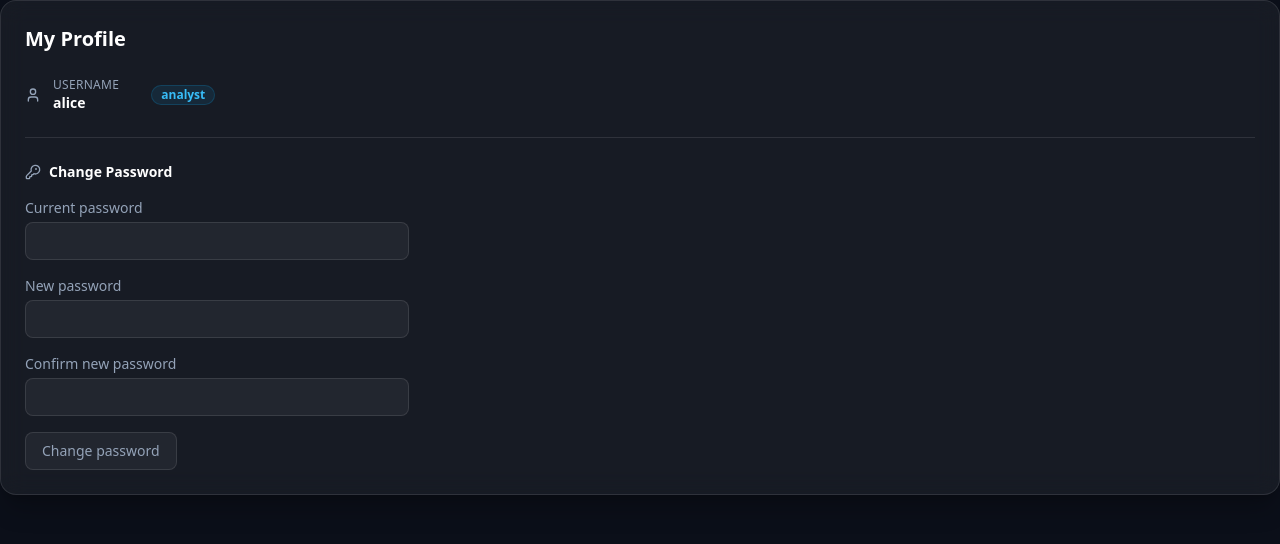
Test: ProfileCard — client-side validation › shows mismatch error when confirm does not match new password
Type "current123" into the password field labelled "Current password". click: (217,241)
box: [25, 222, 409, 260]
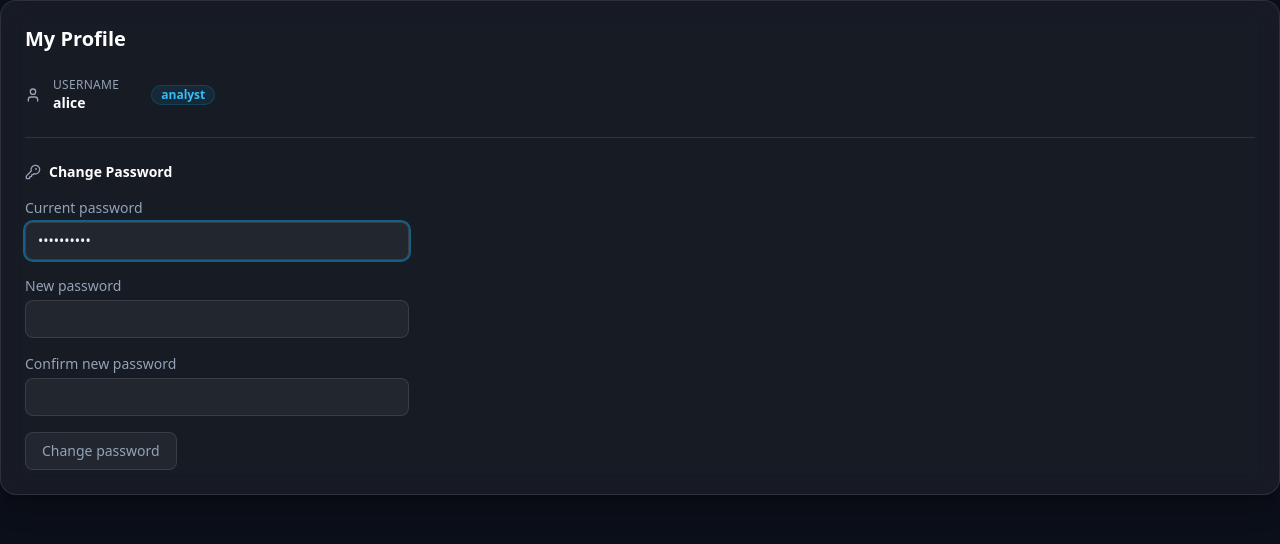
Type "newpassword1" into the password field labelled "New password". click: (217,319)
box: [25, 300, 409, 338]
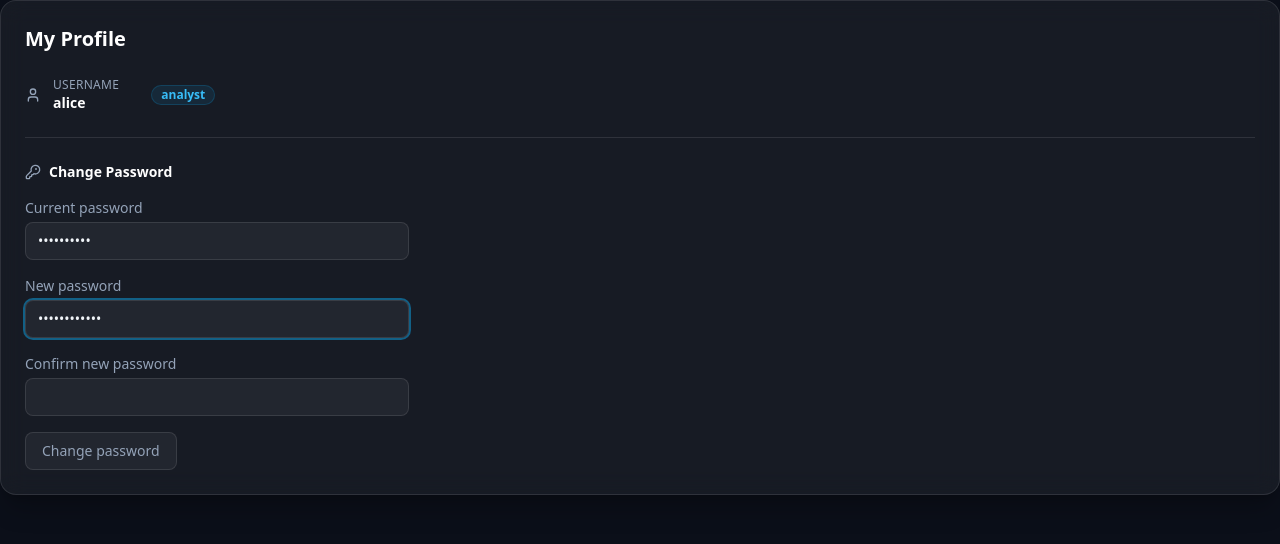
Type "different99" into the password field labelled "Confirm new password". click: (217,397)
box: [25, 378, 409, 416]
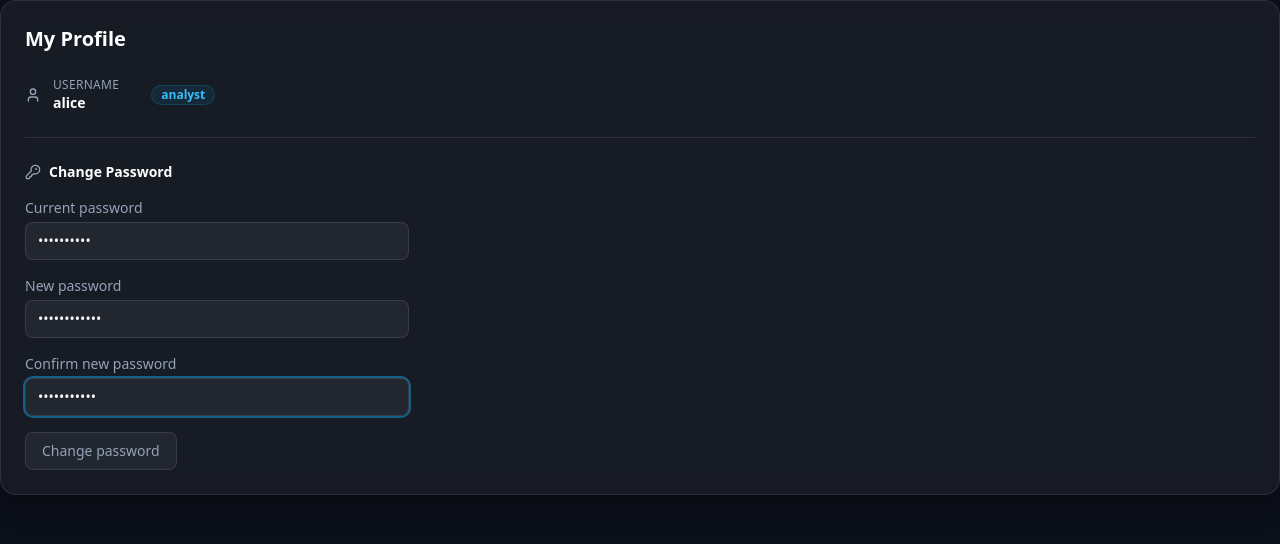
Click the button "Change password". click: (101,451)
box: [25, 432, 177, 470]
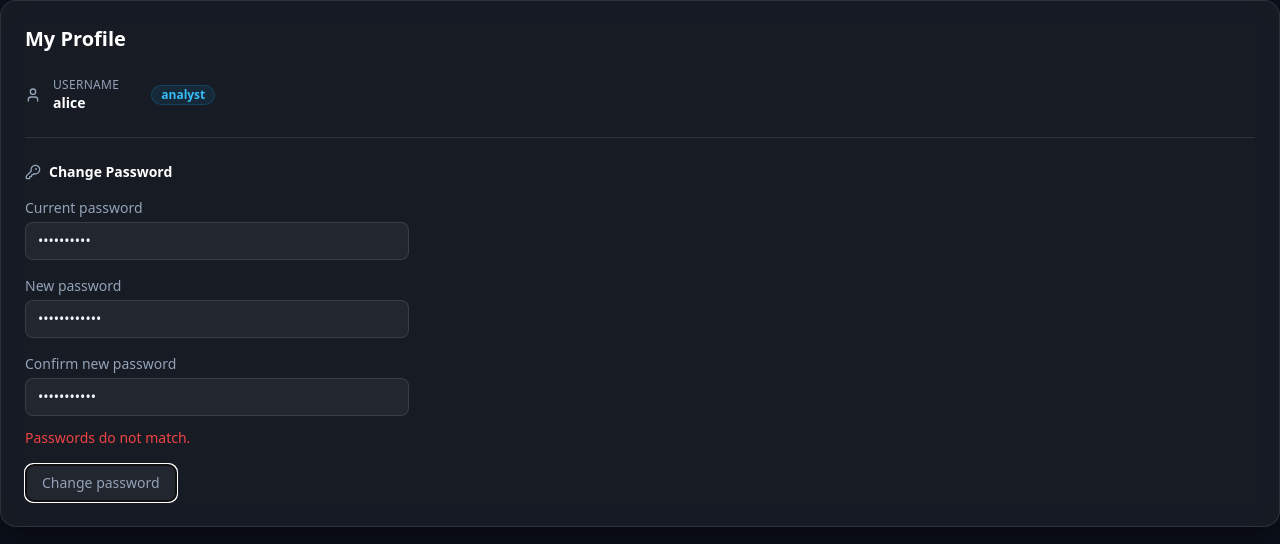
expect the message reads "Passwords do not match.": met, box [25, 428, 190, 447]
